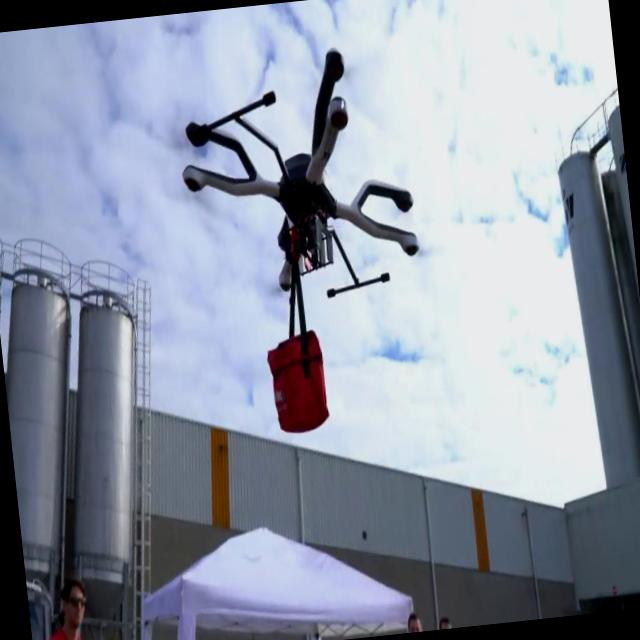drone: (170, 38, 424, 312)
